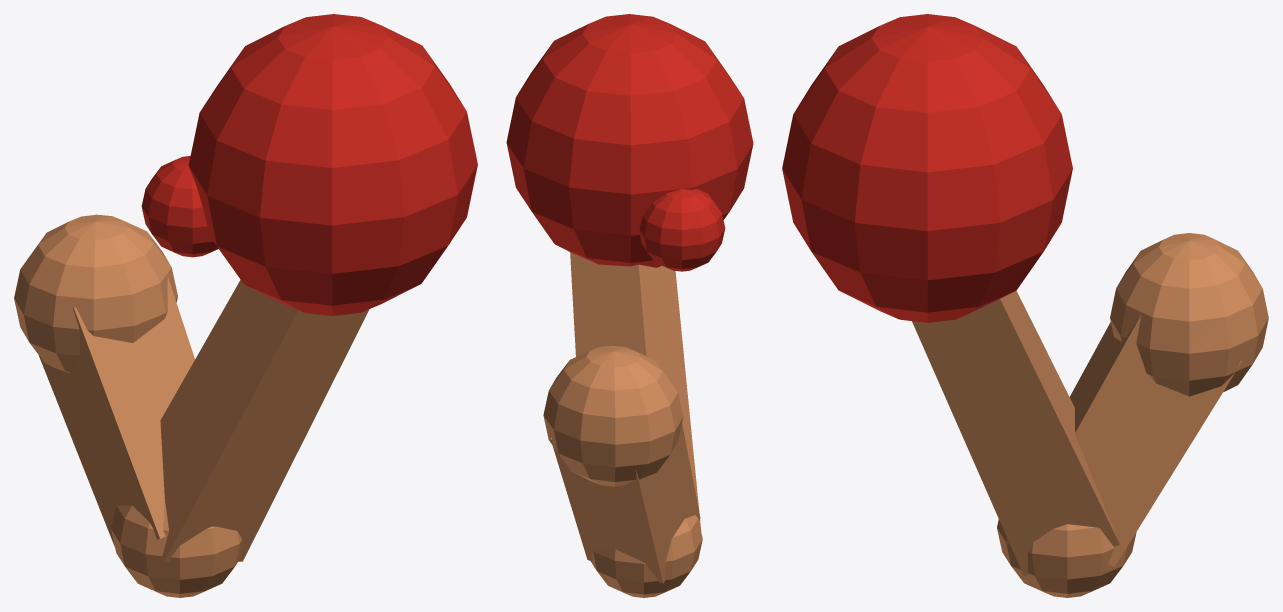
The model's file is boxeador_retador_right_arm.obj.
3 views of the same model, side by side, from view 1: azimuth 30°, elevation 25°; view 2: azimuth 150°, elevation 25°; view 3: azimuth 270°, elevation 25° (orthographic). The views are drawn at different scales.
Visible parts, largest first — view 1: guante_R, antebrazo_R, brazo_R, hombro_R, codo_R, pulgar_R; view 2: guante_R, hombro_R, antebrazo_R, brazo_R, pulgar_R, codo_R; view 3: guante_R, antebrazo_R, hombro_R, brazo_R, codo_R.
Part boxes in pixels (x1,y1,x2,y2): guante_R: (188, 14, 477, 315); antebrazo_R: (160, 280, 369, 561); brazo_R: (38, 276, 194, 546); hombro_R: (14, 214, 177, 372); codo_R: (111, 503, 242, 597); pulgar_R: (141, 156, 218, 257); guante_R: (506, 14, 753, 267); hombro_R: (543, 345, 683, 486); antebrazo_R: (570, 252, 701, 531); brazo_R: (550, 424, 700, 583); pulgar_R: (639, 189, 725, 271); codo_R: (590, 515, 702, 597); guante_R: (782, 14, 1072, 322); antebrazo_R: (912, 290, 1119, 576); hombro_R: (1110, 233, 1268, 396); brazo_R: (1069, 314, 1241, 566); codo_R: (997, 519, 1136, 597).
Bounding box in the file's own units: 0.829 × 1.53 × 1.12.
